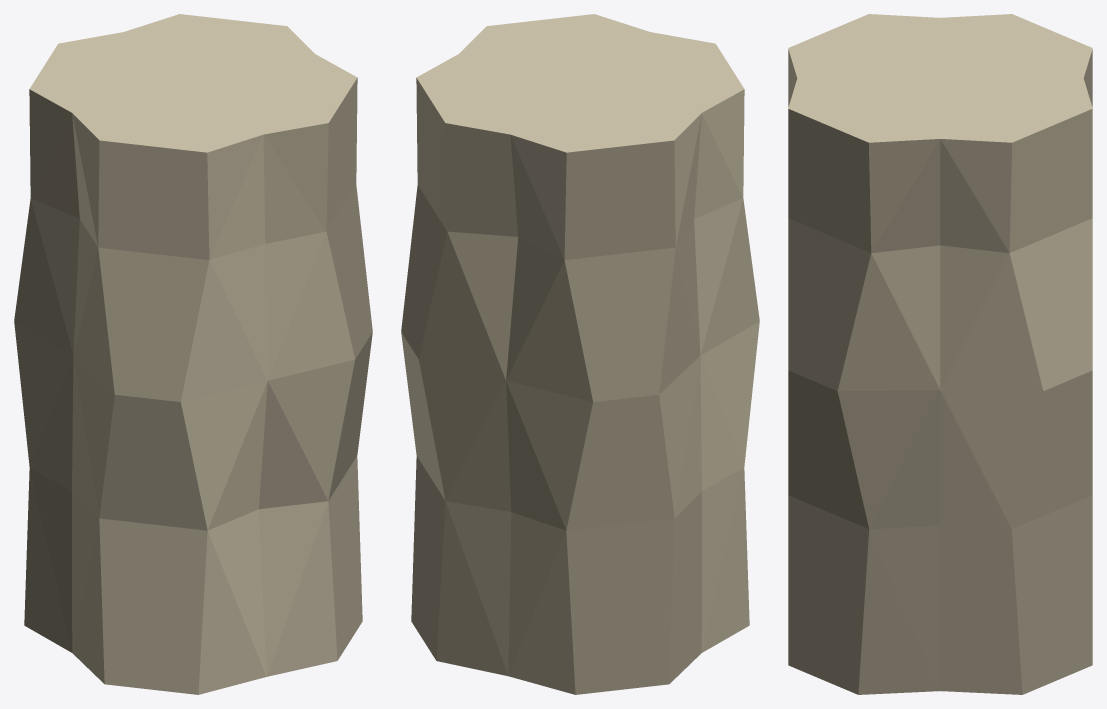
Rendered from Section_2.glb.
The picture shows the model from 3 angles, left to right: view 1: azimuth 30°, elevation 25°; view 2: azimuth 150°, elevation 25°; view 3: azimuth 270°, elevation 25°; orthographic projection. The views are drawn at different scales.
Visible parts, largest first — view 1: Section; view 2: Section; view 3: Section.
Boxes of the visible parts, x1,y1,x2,y2 form: Section: (14, 14, 372, 694); Section: (401, 14, 759, 694); Section: (788, 14, 1092, 694).
Bounding box in the file's own units: 2.6 × 5.2 × 2.6.
